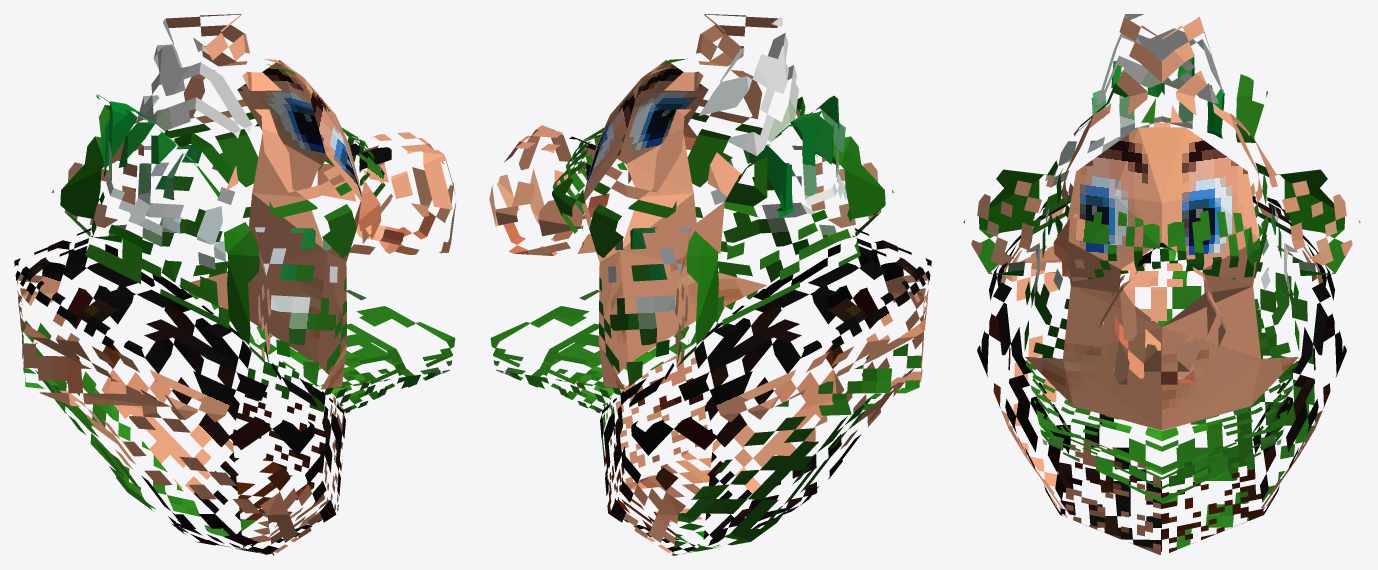
Rendered from luigi_head_cap.obj.
3 renders of one model, left to right at view 1: azimuth 30°, elevation 25°; view 2: azimuth 150°, elevation 25°; view 3: azimuth 270°, elevation 25°, orthographic. The views are drawn at different scales.
Visible parts, largest first — view 1: luigi_head_model; view 2: luigi_head_model; view 3: luigi_head_model.
Part boxes in pixels (x1,y1,x2,y2): luigi_head_model: (14,14,456,555); luigi_head_model: (489,14,931,555); luigi_head_model: (963,14,1360,554).
Bounding box in the file's own units: 8.16 × 9.6 × 6.8.
